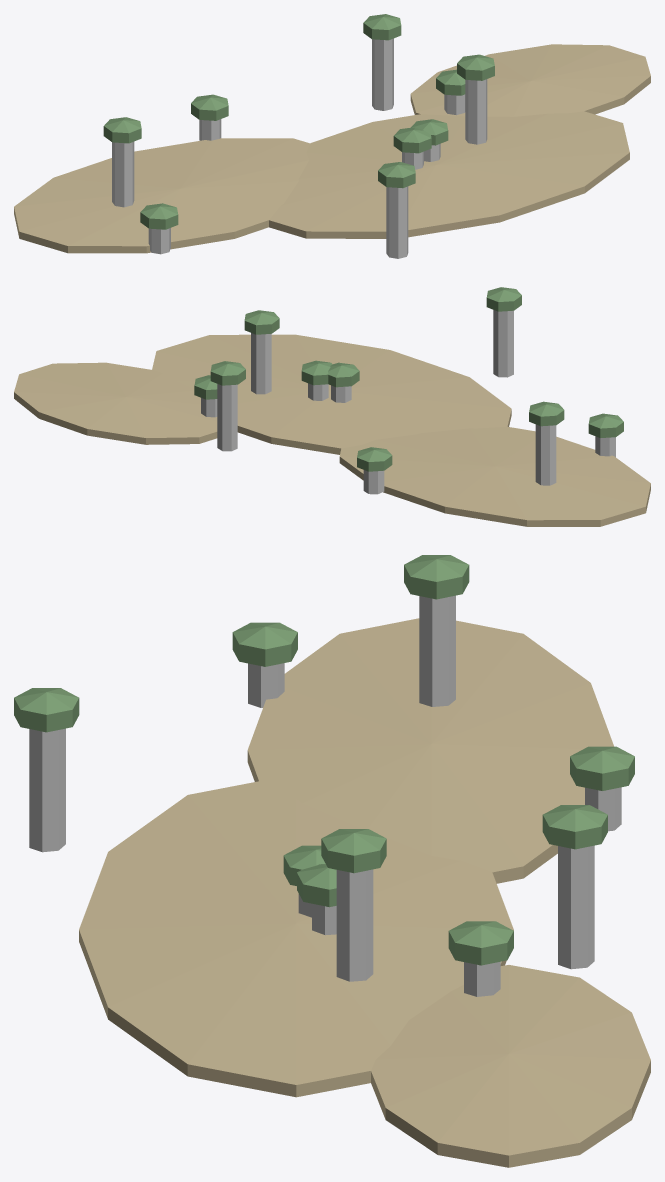
File: carbonate_colony_a.obj
3 renders of one model, top to bottom at view 1: azimuth 30°, elevation 25°; view 2: azimuth 150°, elevation 25°; view 3: azimuth 270°, elevation 25°, orthographic. The views are drawn at different scales.
Visible parts, largest first — view 1: carbonate_mat_1, carbonate_mat_0, carbonate_mat_2, tube_3, tube_7, tube_1, tube_5, rim_7, rim_1, rim_6, rim_5, rim_3 (+7 smaller); view 2: carbonate_mat_1, carbonate_mat_0, carbonate_mat_2, tube_3, tube_7, tube_1, tube_5, rim_7, rim_1, rim_3, rim_4, rim_5 (+6 smaller); view 3: carbonate_mat_1, carbonate_mat_0, carbonate_mat_2, tube_3, tube_7, tube_5, tube_1, rim_6, rim_2, rim_1, rim_3, rim_7 (+7 smaller).
Part boxes in pixels (x1,y1,x2,y2): carbonate_mat_1: (269,111,629,238); carbonate_mat_0: (14,138,309,253); carbonate_mat_2: (410,44,650,116); tube_3: (386,186,408,258); tube_7: (372,38,393,110); tube_1: (112,141,134,207); tube_5: (465,79,487,144); rim_7: (363,14,401,40); rim_1: (103,117,141,143); rim_6: (140,203,178,229); rim_5: (457,54,494,80); rim_3: (378,162,415,188); carbonate_mat_1: (152,334,511,454); carbonate_mat_0: (339,426,650,526); carbonate_mat_2: (14,362,217,444); tube_3: (493,310,513,377); tube_7: (217,384,237,451); tube_1: (535,424,556,485); tube_5: (251,333,271,394); rim_7: (210,361,245,385); rim_1: (529,401,564,426); rim_3: (486,287,521,311); rim_4: (357,447,392,471); rim_5: (244,310,279,334); carbonate_mat_1: (79,781,513,1097); carbonate_mat_0: (247,618,613,883); carbonate_mat_2: (371,965,650,1167); tube_3: (29,728,65,852); tube_7: (558,845,594,969); tube_5: (336,869,373,981); tube_1: (419,595,455,706); rim_6: (232,622,297,666); rim_2: (448,921,513,965); rim_1: (404,555,469,599); rim_3: (14,688,79,732); rim_7: (542,805,607,849).
Bounding box in the file's own units: 6.61 × 0.93 × 3.3.
